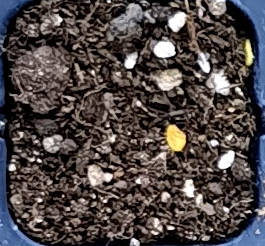chilli seed: (166, 124, 186, 151), (245, 39, 252, 65)
